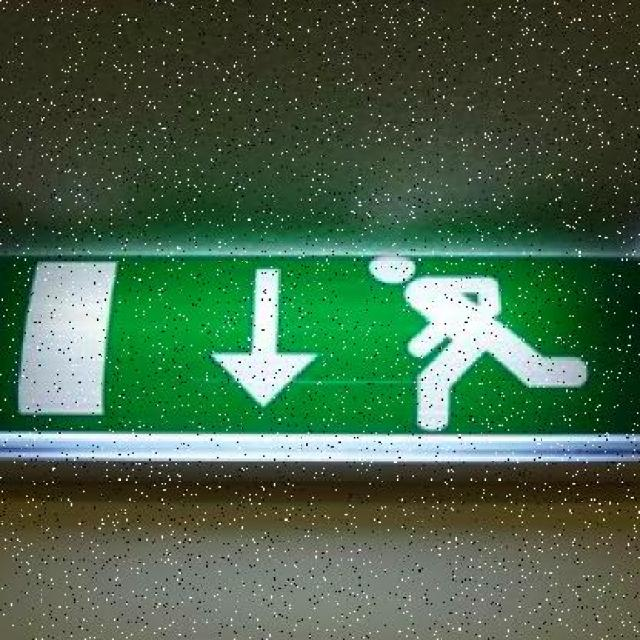emergency_exit: (1, 251, 639, 463)
